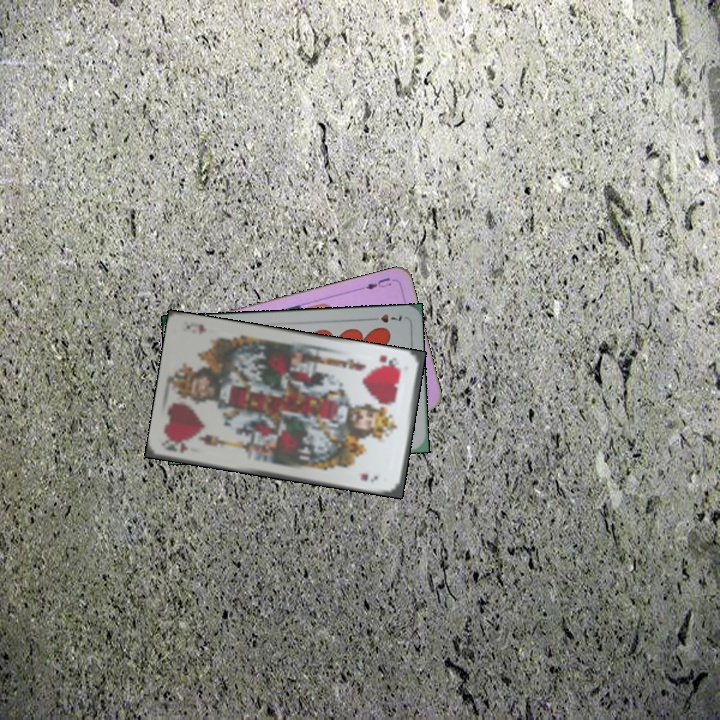EU: (361, 274, 394, 292)
H7: (366, 310, 404, 325)
HK: (376, 350, 404, 371), (161, 438, 191, 456)
